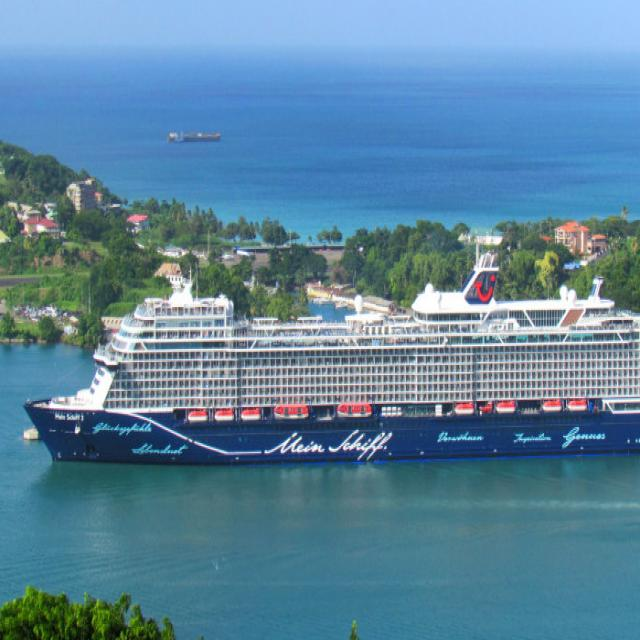cruises: (21, 250, 640, 475)
